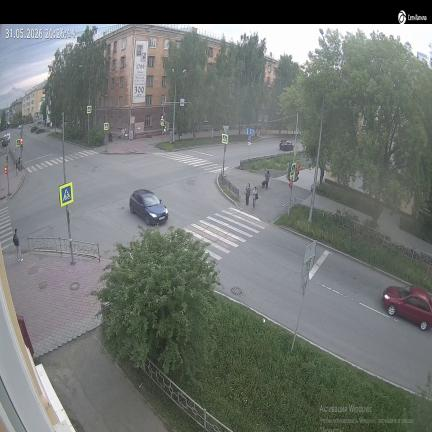car: (382, 286, 431, 330), (129, 189, 168, 225), (280, 140, 294, 151)
human: (13, 229, 22, 261), (252, 187, 258, 209), (246, 184, 250, 205), (266, 171, 269, 188), (18, 158, 21, 170), (108, 132, 112, 141), (16, 160, 18, 175)
lightPole: (308, 91, 325, 221), (79, 65, 91, 130)
pedestianCross: (185, 207, 266, 260), (27, 151, 96, 171), (153, 153, 222, 172), (0, 207, 13, 251), (247, 129, 255, 158)
pedestrianSign: (59, 113, 75, 265), (5, 122, 10, 195), (222, 126, 228, 175), (104, 122, 108, 152)
sign: (291, 241, 316, 352)
trafficLight: (291, 241, 316, 352), (287, 130, 299, 215), (160, 95, 177, 149), (20, 128, 23, 168)
